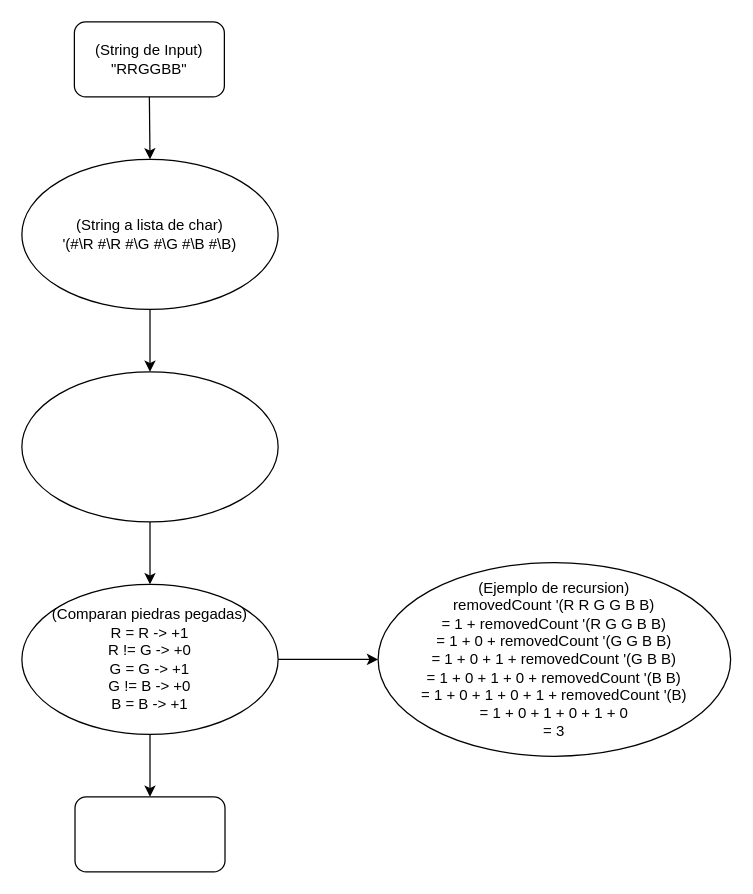
Image size: 753x894. Some labels were removed from this diagram. Each missing label, with the centre of its shape:
"(Num de Output) 3" belongs at [149,834].
"(removedCount en la lista) Funcion recursiva" belongs at [149,446].
